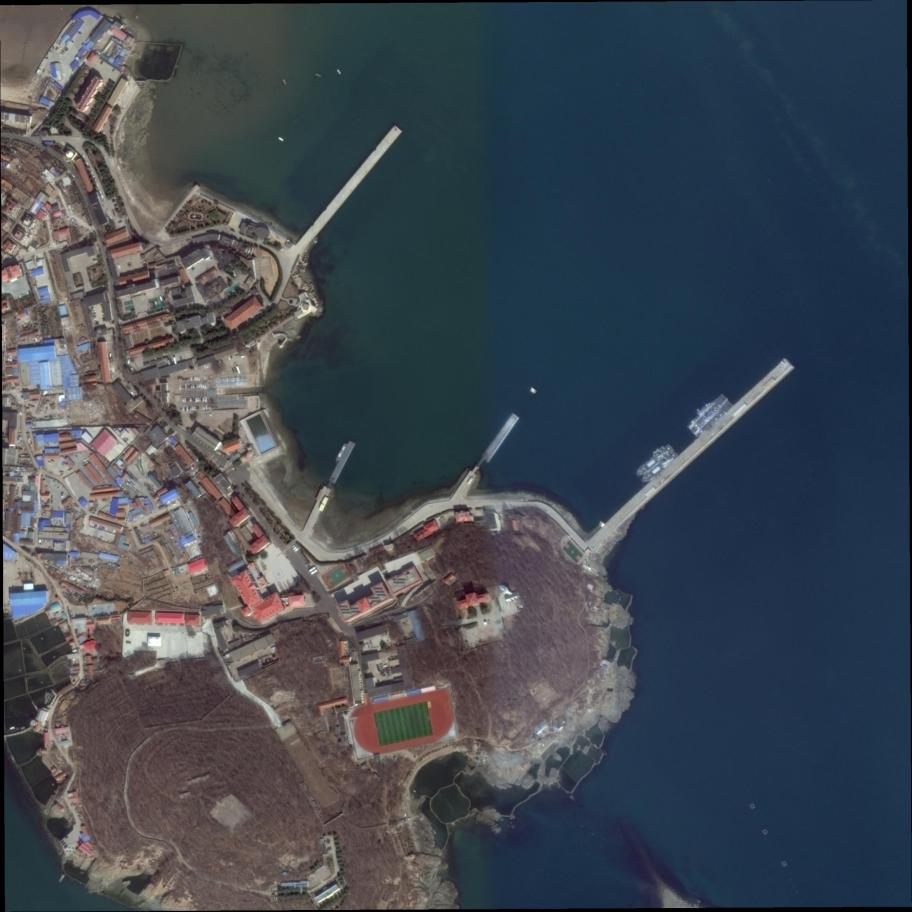large-vehicle: (308, 566, 316, 573), (311, 569, 318, 575)
ship: (687, 394, 728, 433), (692, 400, 733, 438), (635, 443, 673, 478), (640, 450, 678, 485), (334, 443, 347, 463)
